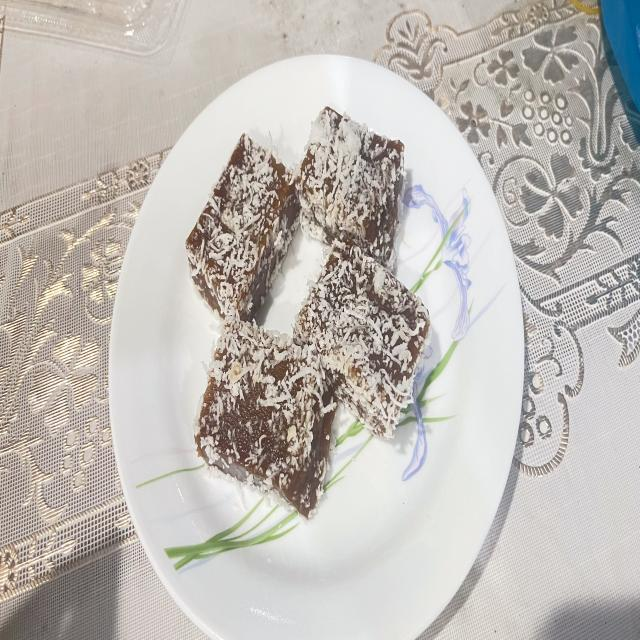kaswi: (195, 320, 338, 518), (294, 240, 431, 438), (186, 133, 300, 320), (296, 107, 404, 271)
